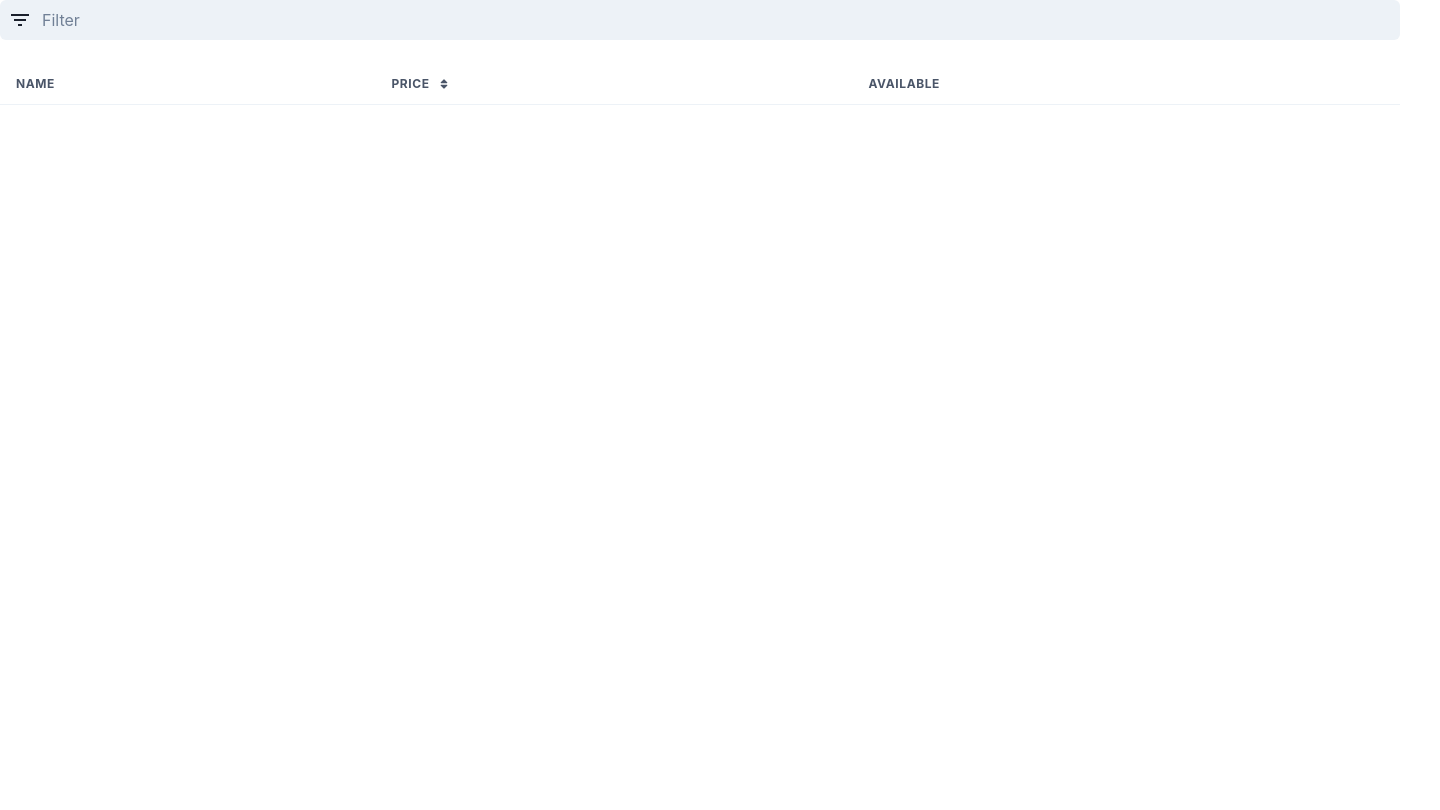
Test: Table › filtering input › popover › should filter options as user types in input
Click the field with placeholder "Filter".
click(700, 20)  # box x1=0 y1=0 x2=1400 y2=40
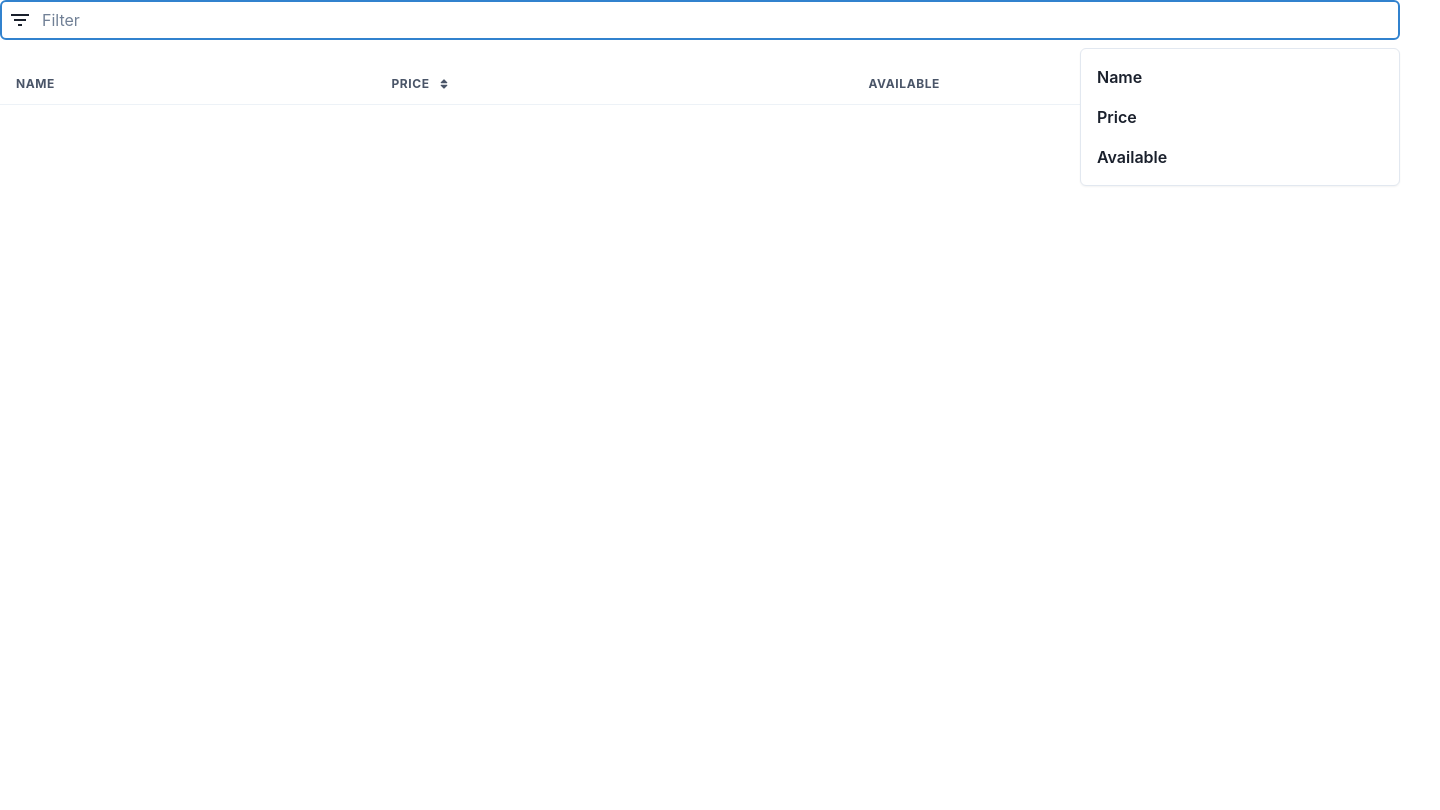
Expected: the number of list items is 3, x1=1097 y1=67 x2=1142 y2=87; x1=1097 y1=107 x2=1137 y2=127; x1=1097 y1=147 x2=1167 y2=167
Type "avail" into the field with placeholder "Filter".
click(700, 20); type("avail")  # box x1=0 y1=0 x2=1400 y2=40
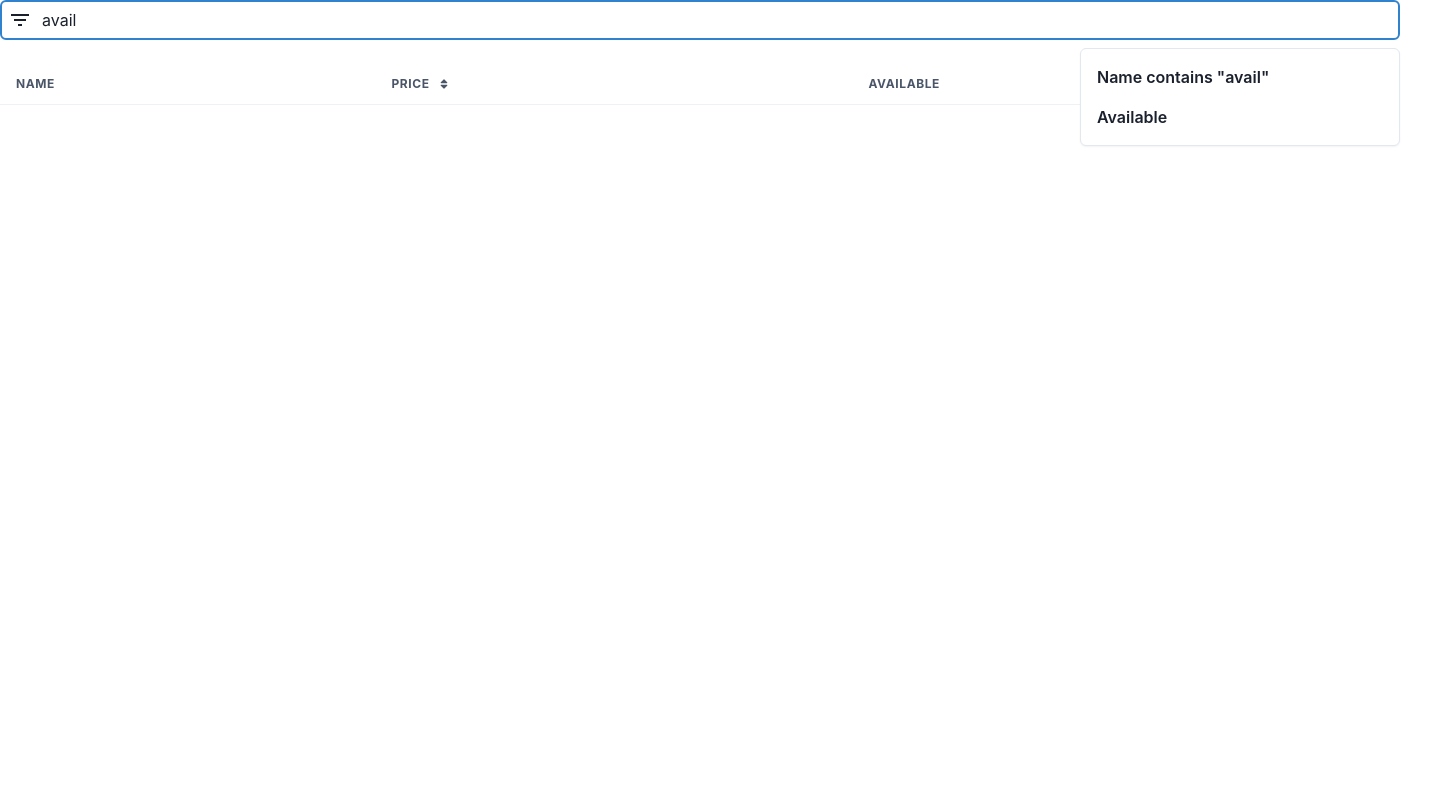
Expected: the list item "Available" is shown, x1=1097 y1=107 x2=1167 y2=127
Expected: the number of list items is 2, x1=1097 y1=67 x2=1269 y2=87; x1=1097 y1=107 x2=1167 y2=127
